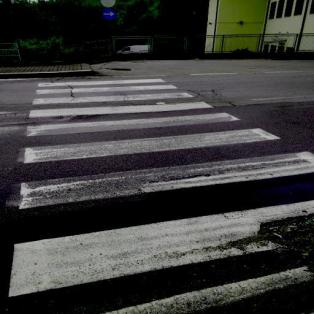Paso de Cebra: (17, 110, 284, 170), (30, 76, 184, 96)
